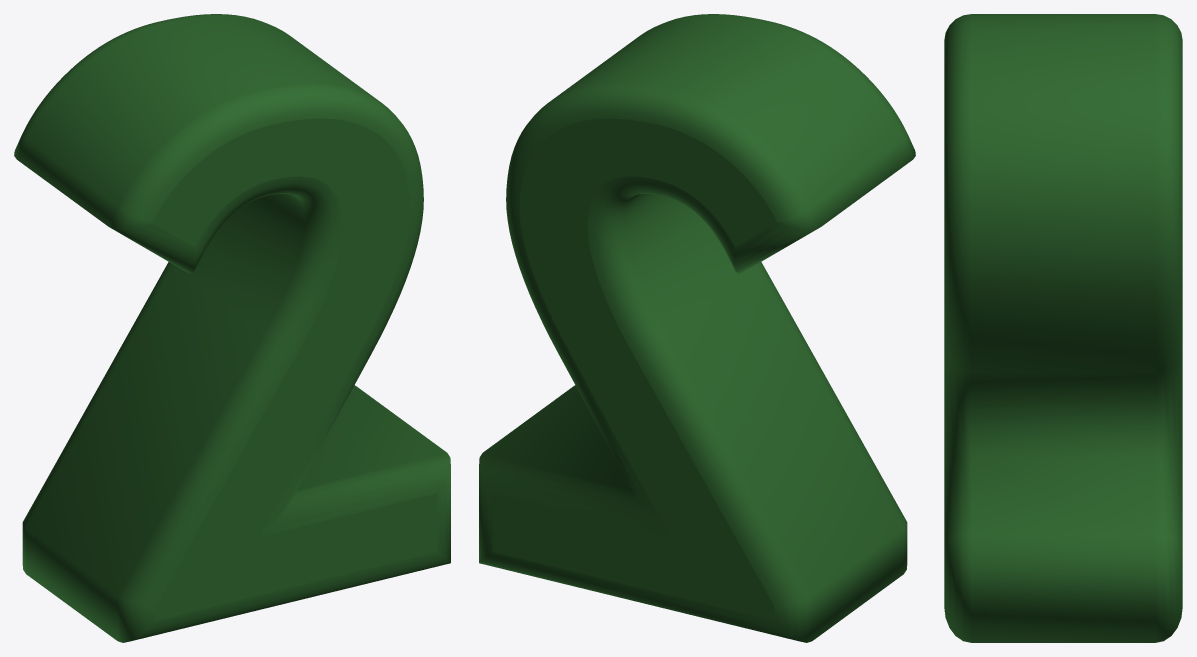
3 views of the same model, side by side, from view 1: azimuth 30°, elevation 25°; view 2: azimuth 150°, elevation 25°; view 3: azimuth 270°, elevation 25° (orthographic).
Parts seen in each view (by area): view 1: Text; view 2: Text; view 3: Text.
Part boxes in pixels (x1=…): Text: x1=14, y1=14, x2=450, y2=642; Text: x1=479, y1=14, x2=915, y2=642; Text: x1=944, y1=14, x2=1182, y2=642.
Size of the model in its own units: 42.67 by 62.24 by 26.
